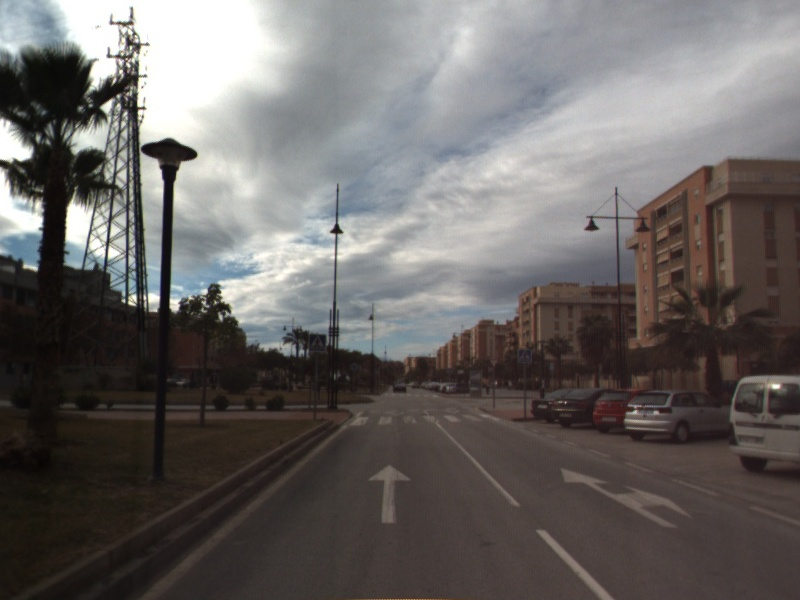STRAIGHT: (366, 462, 414, 525)
STRAIGHT_RIGHT: (559, 466, 694, 530)
